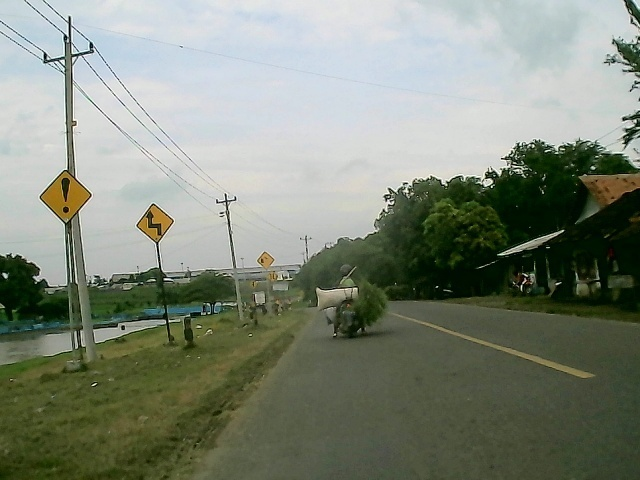Hati-hati: (37, 170, 93, 225)
Peringatan tepi air: (256, 250, 274, 270)
Tikungan garda pertama kiri: (133, 201, 175, 246)
